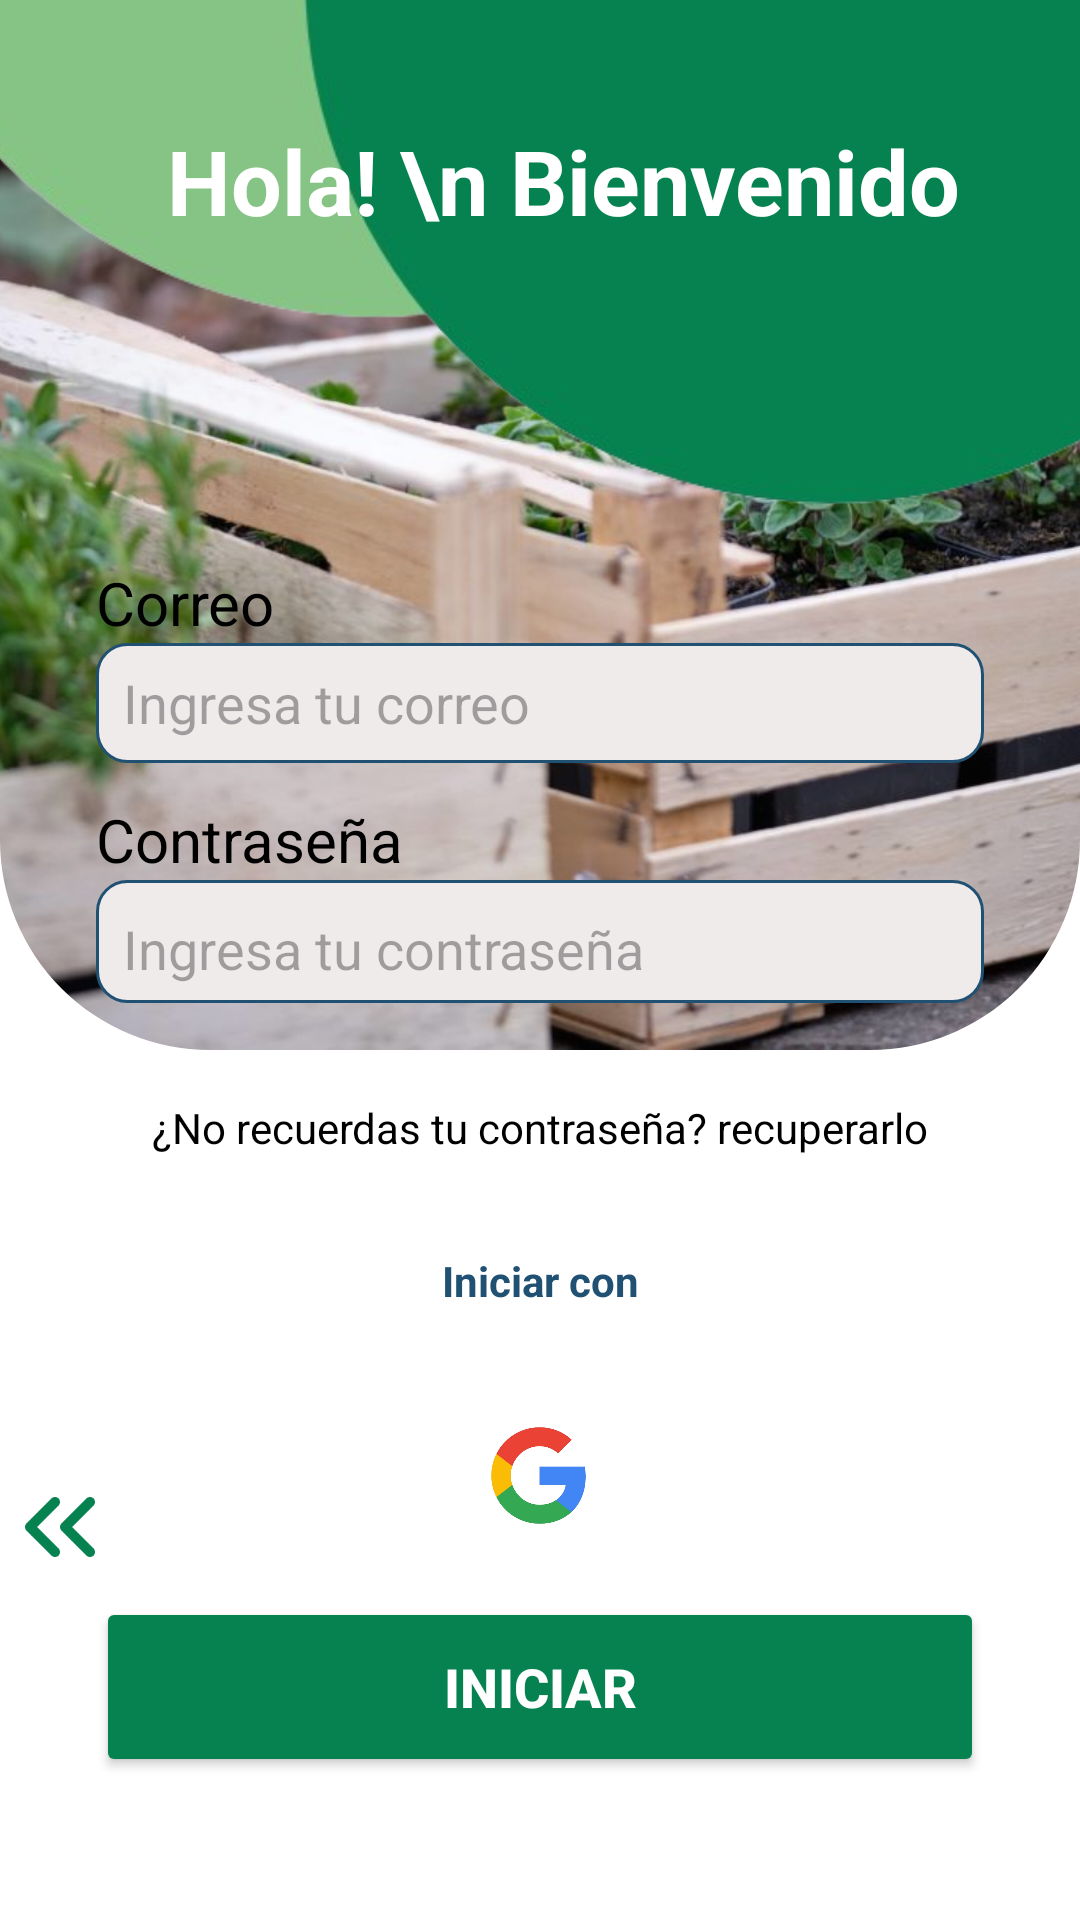

Named icons in this screenshot (1080w x 1920h) and their centers, [x,y]:
chevrons left: [60,1527]
